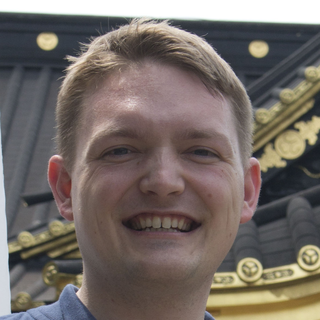eye: (177, 141, 225, 165), (96, 141, 144, 165)
